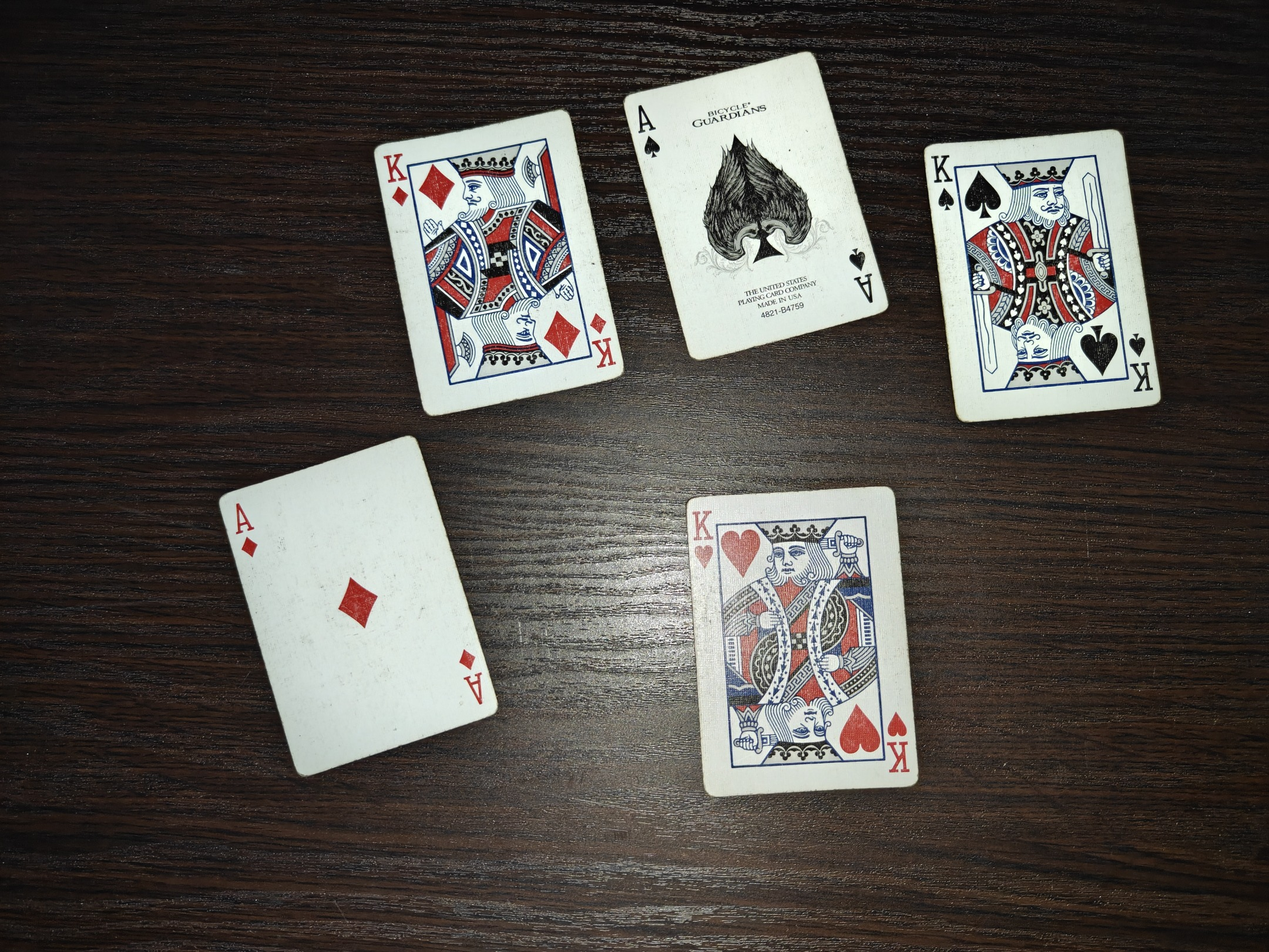AD: (217, 434, 499, 781)
AS: (623, 48, 888, 361)
KD: (375, 108, 624, 416)
KH: (687, 485, 920, 798)
KS: (924, 127, 1162, 422)
